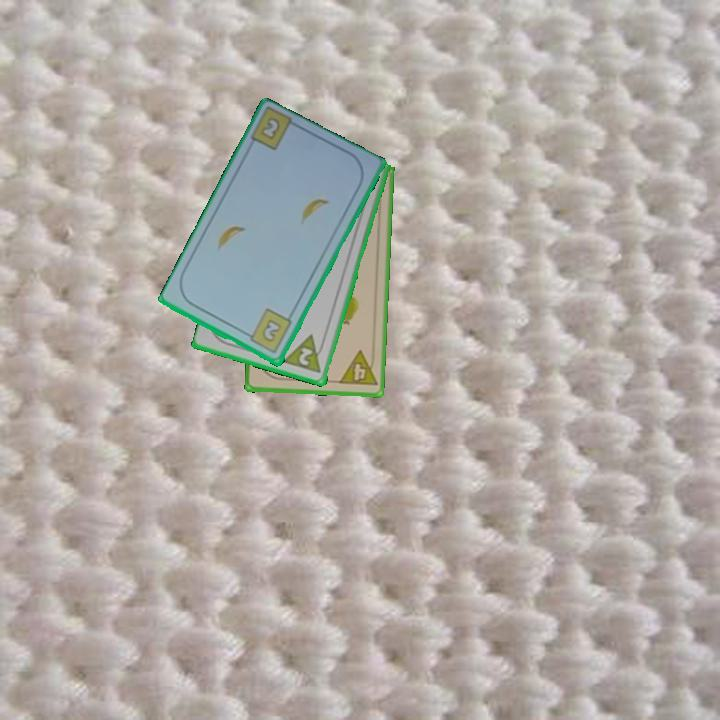2b: (242, 306, 295, 357), (257, 114, 283, 143)
2p: (281, 331, 328, 377)
4p: (335, 347, 380, 389)
